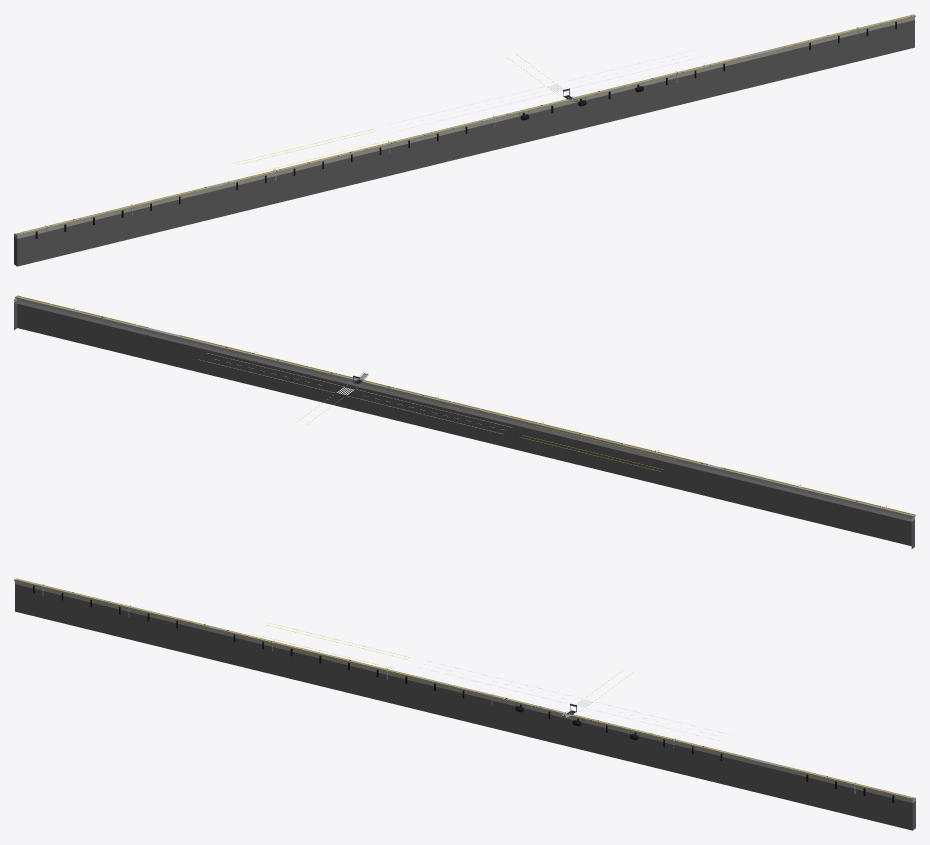
Rendered from SM_Harbor_Quay.fbx.
The picture shows the model from 3 angles, top to bottom: view 1: azimuth 30°, elevation 25°; view 2: azimuth 150°, elevation 25°; view 3: azimuth 330°, elevation 25°; orthographic projection.
Visible parts, largest first — view 1: SM_Harbor_Quay; view 2: SM_Harbor_Quay; view 3: SM_Harbor_Quay.
Boxes of the visible parts, box(x1,y1,x2,y2) form: SM_Harbor_Quay: box(14, 14, 915, 266); SM_Harbor_Quay: box(14, 295, 915, 548); SM_Harbor_Quay: box(14, 578, 915, 830).
Size of the model in its own units: 471 by 19.49 by 58.84.
